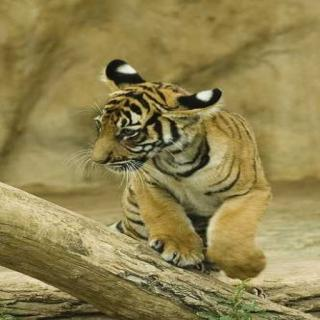Tiger: (76, 51, 274, 271)
